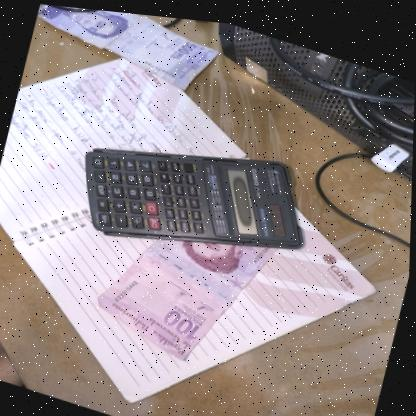one_hundred-front-vef: (89, 191, 280, 377)
